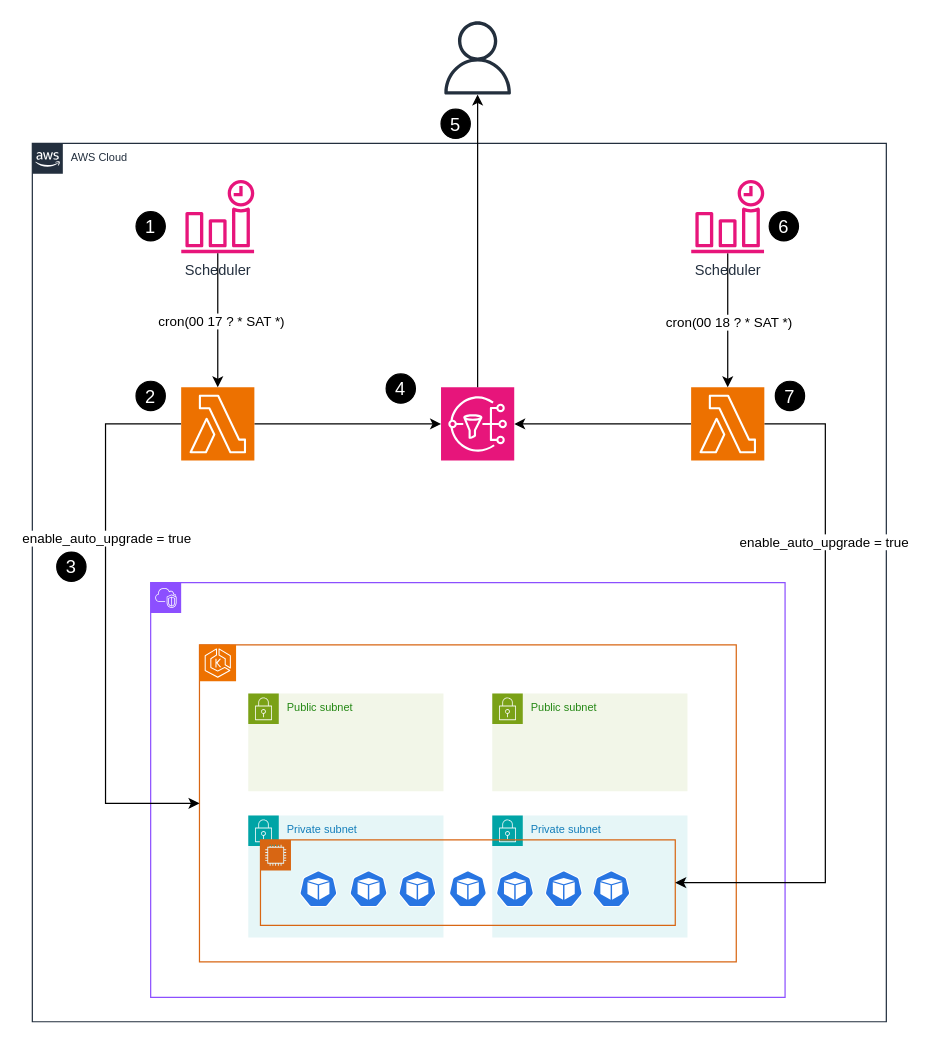
Image size: 928x1043. Some labels were removed from this diagram. The box of each missing label's shape, as (x1, y1, x2, y2) in pixels:
EKS: (198, 644, 736, 962)
eks_version_checker: (180, 386, 254, 461)
Managed Node Group: (259, 839, 675, 925)
nodegroup_version_checker: (690, 386, 764, 461)
sns_topic: (440, 386, 514, 461)
VPC: (149, 581, 785, 997)
